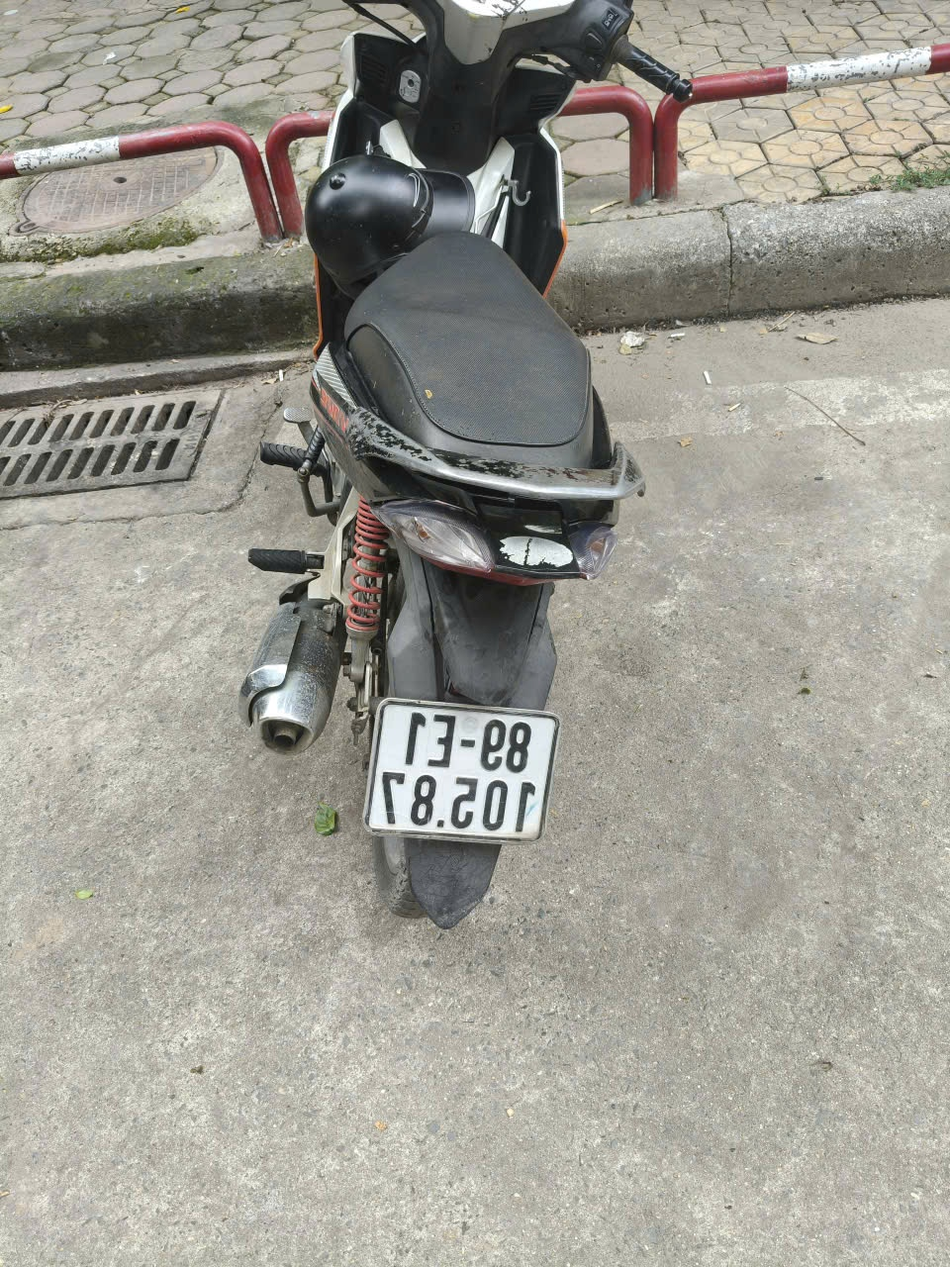plate: (220, 91, 331, 131)
